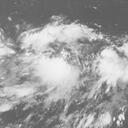cyclone: (43, 49, 123, 93)
